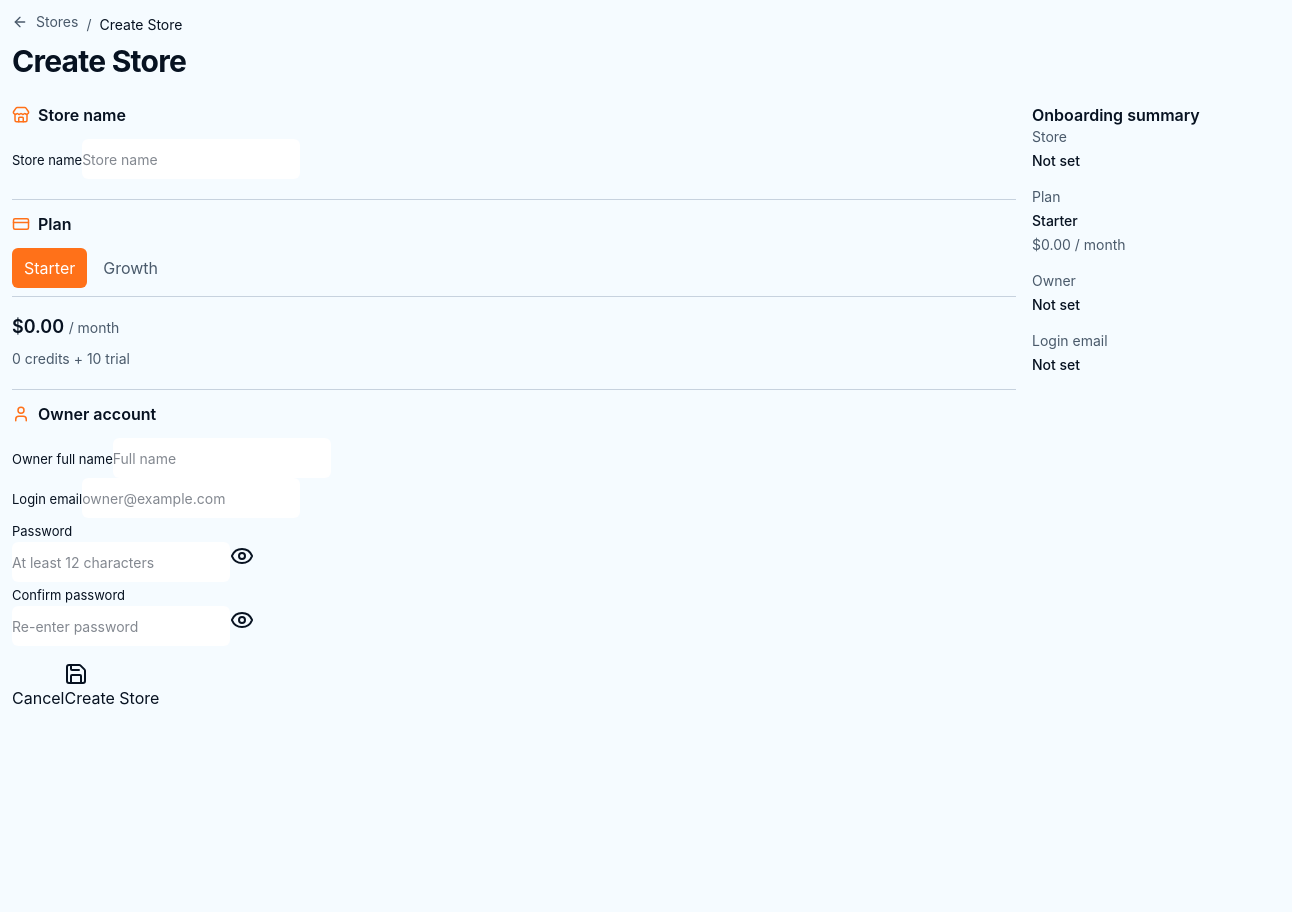
Scenario: Create Store page › rejects mismatched passwords without submitting
The image size is (1292, 912).
Type "Test Store" into the field labelled "Store name" at (191, 159), box [82,139,300,179]
Type "Jane Owner" into the field labelled "Owner full name" at (222, 458), box [113,438,331,478]
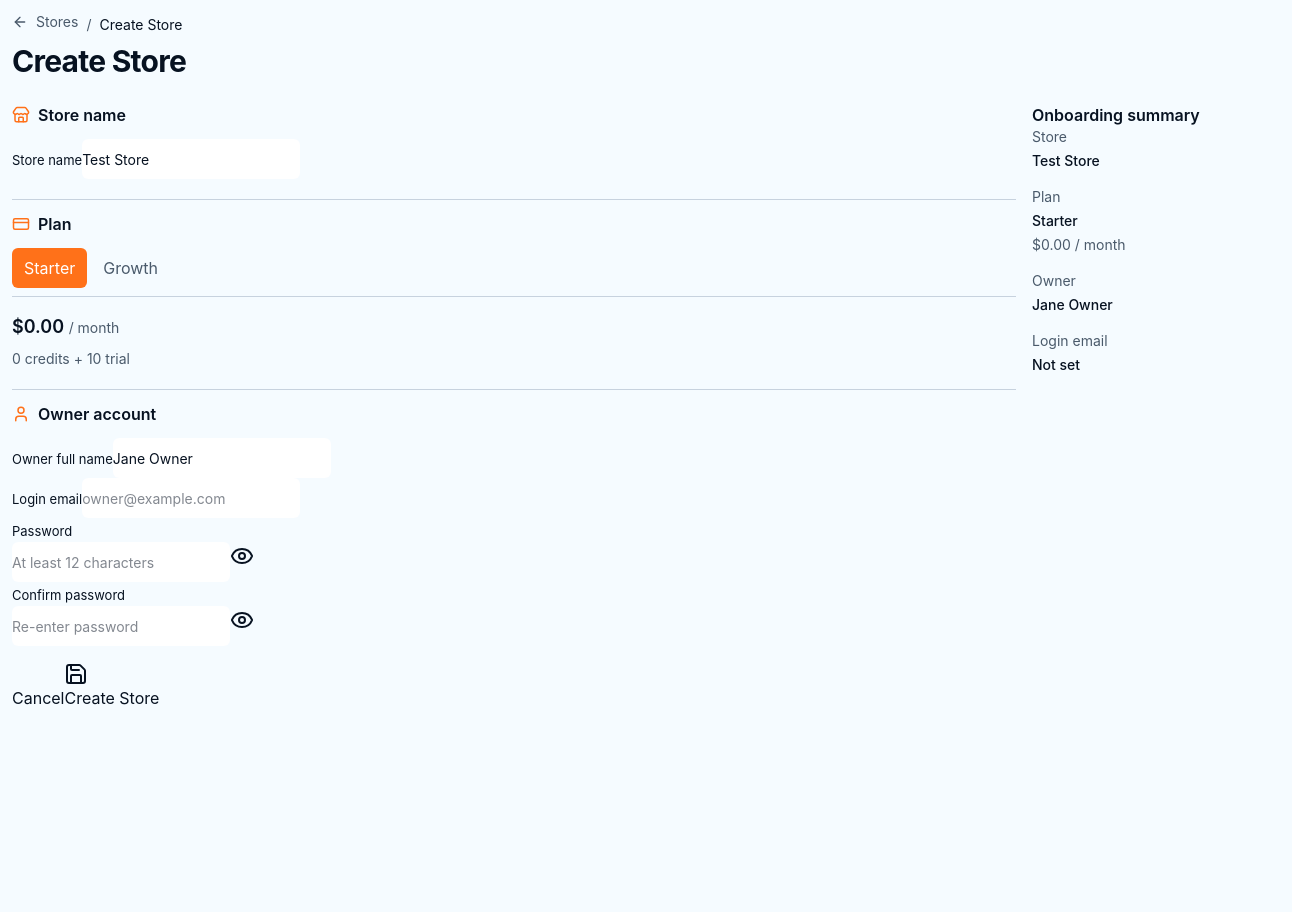
Type "jane@example.com" into the field labelled "Login email" at (191, 498), box [82,478,300,518]
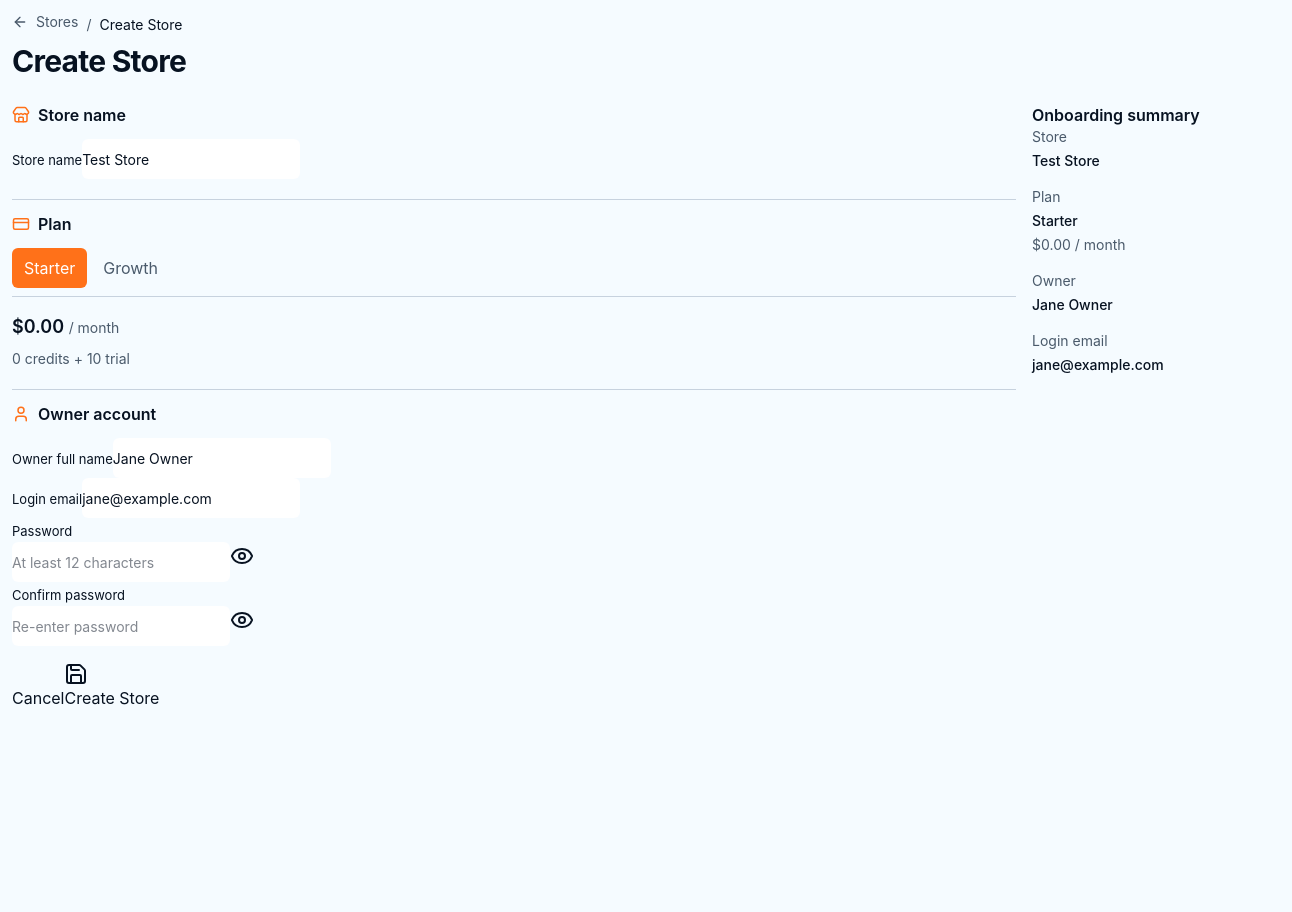
Type "OwnerPassword123!" into the password field labelled "Password" at (121, 562), box [12,542,230,582]
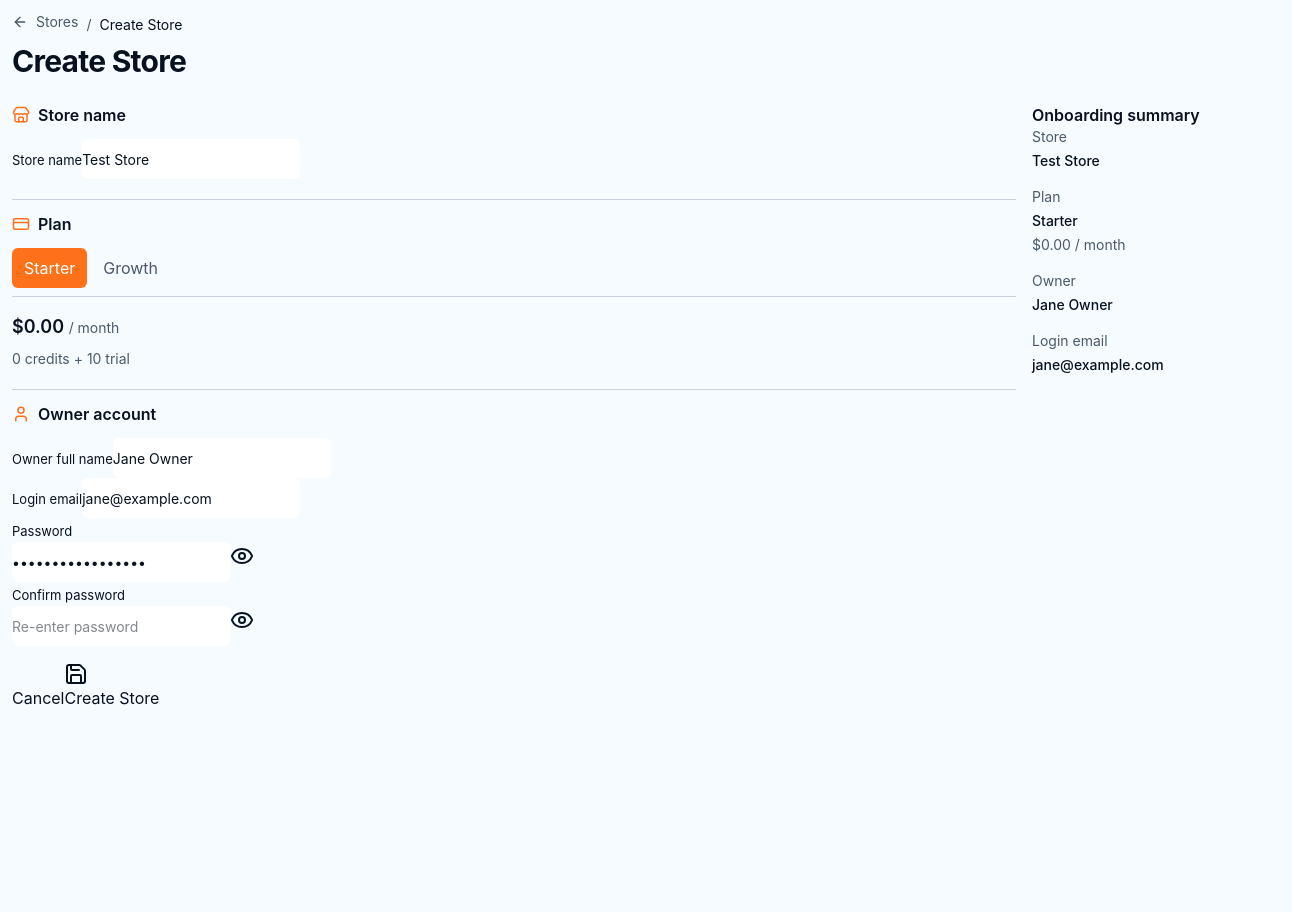
Type "OwnerPassword123!" into the password field labelled "Confirm password" at (121, 626), box [12,606,230,646]
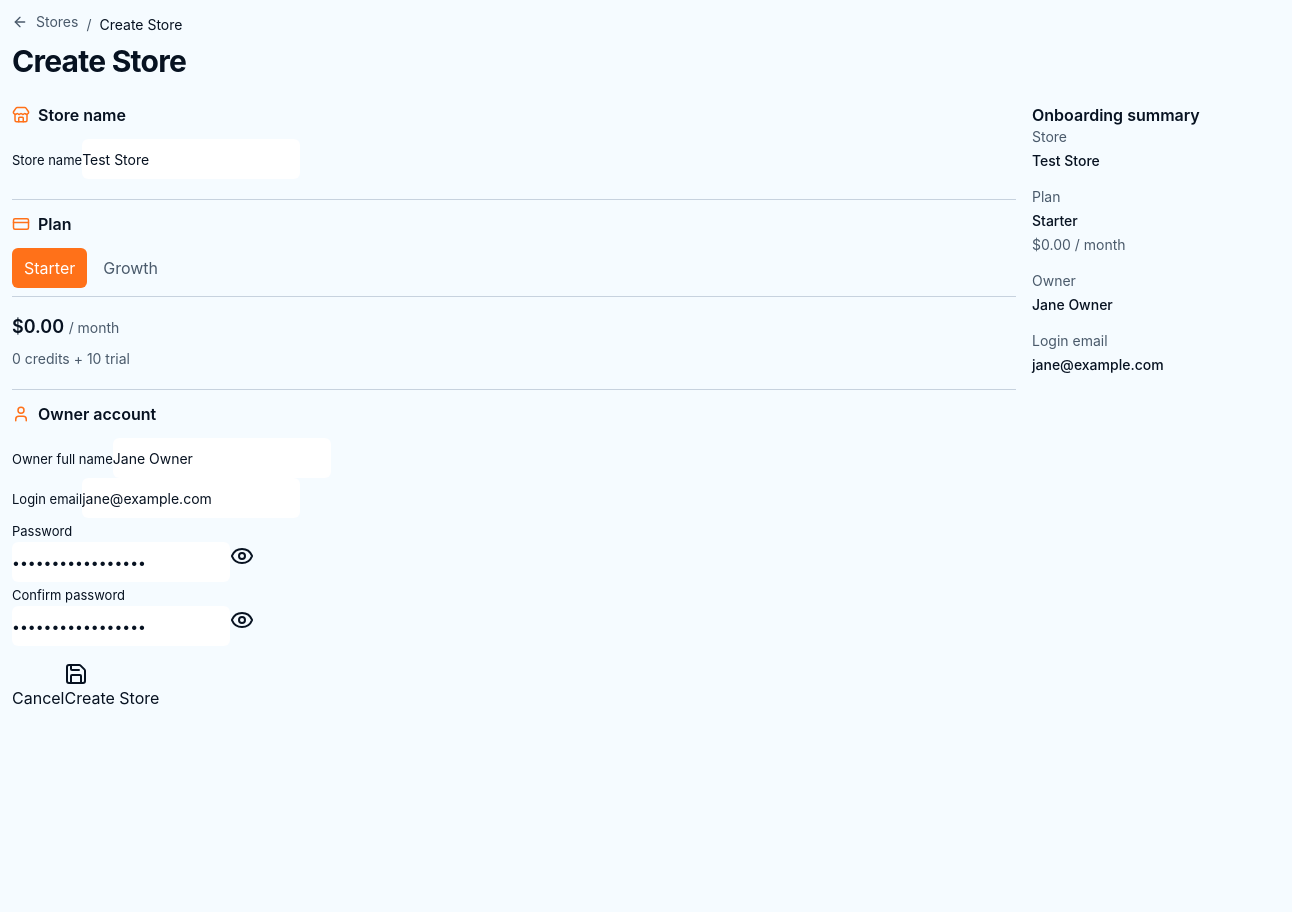
Type "different" into the password field labelled "Confirm password" at (121, 626), box [12,606,230,646]
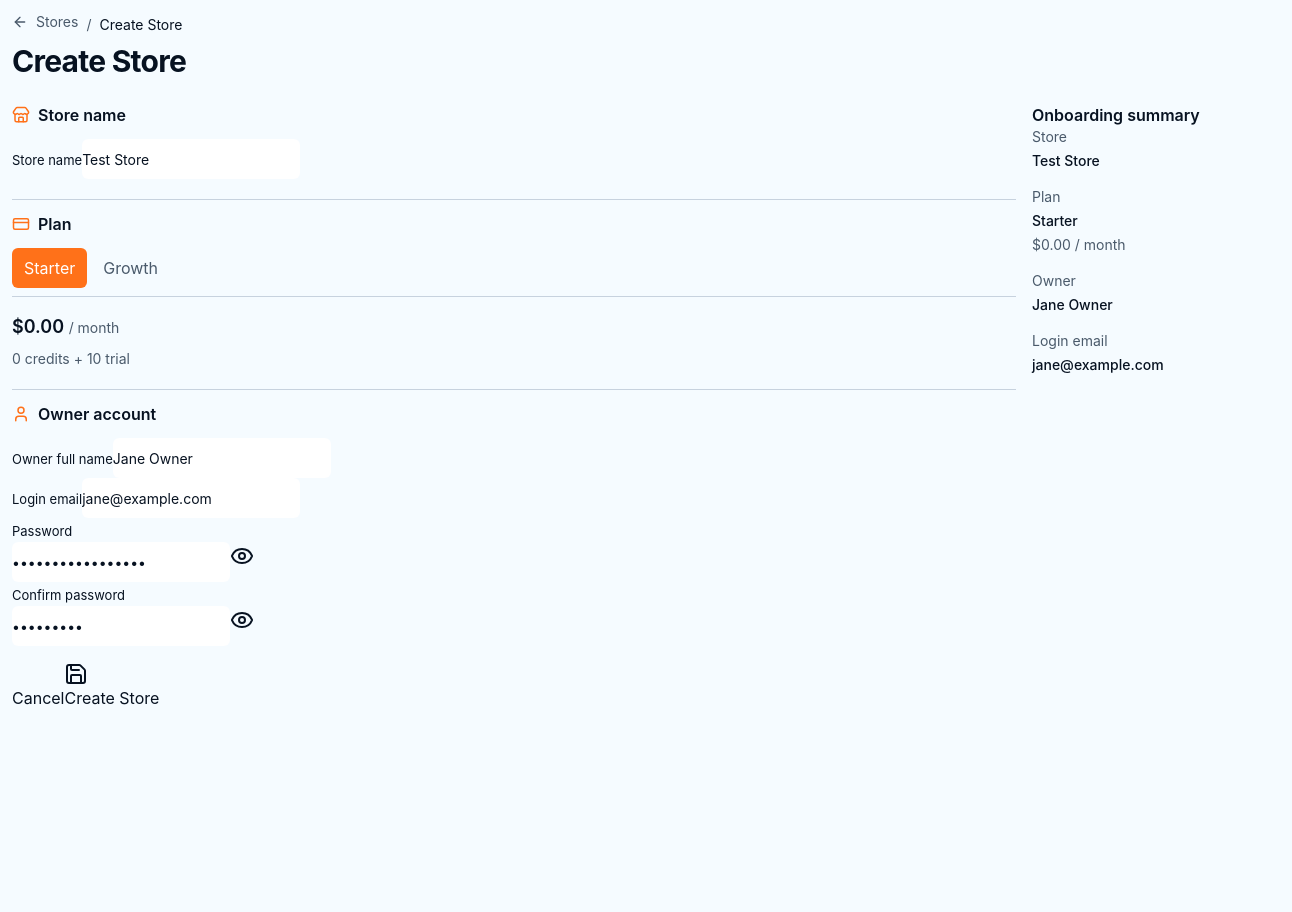
Submit the form named "Create Store"
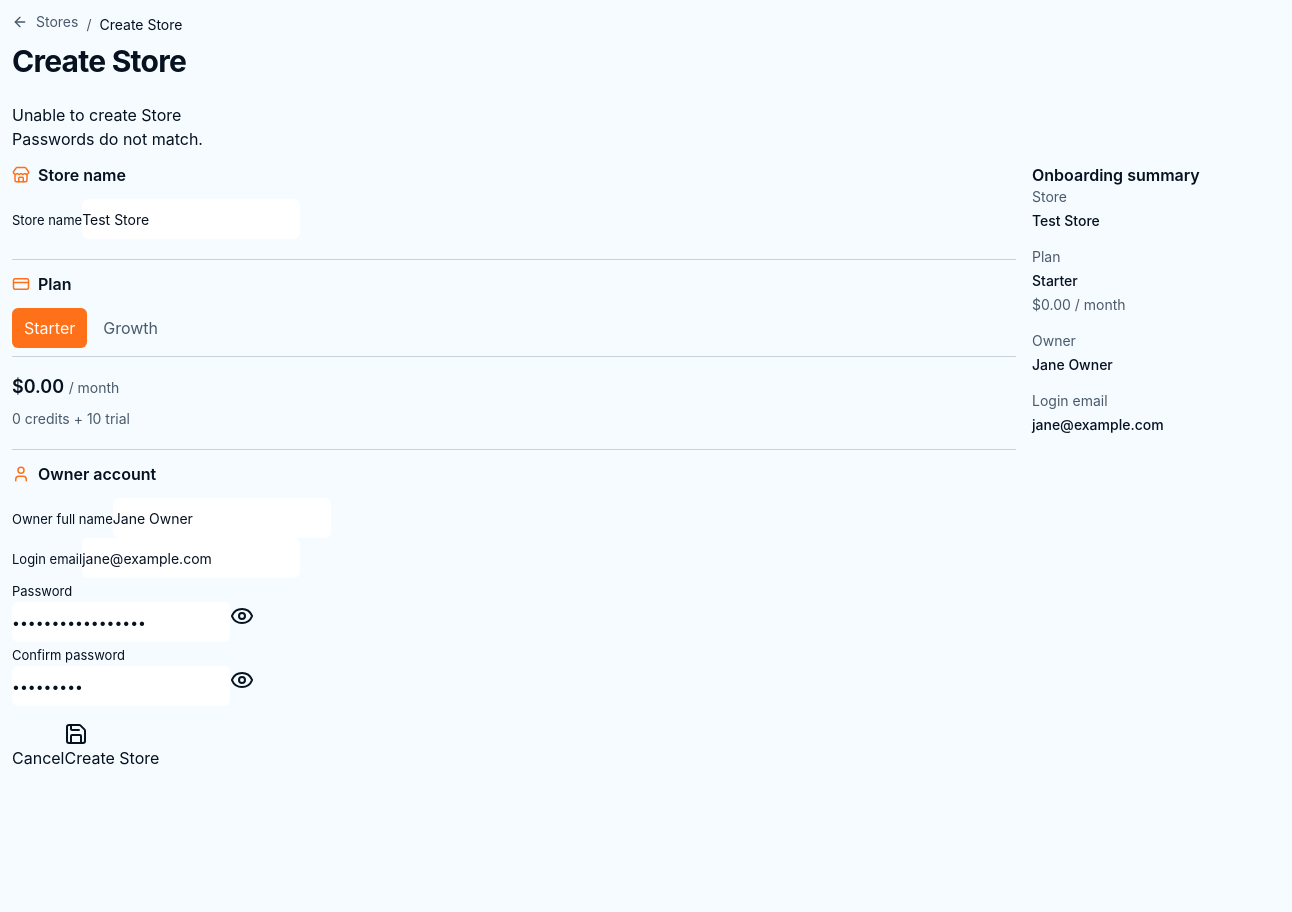
expect the text "Passwords do not match." is shown: met, box [12,129,203,149]
